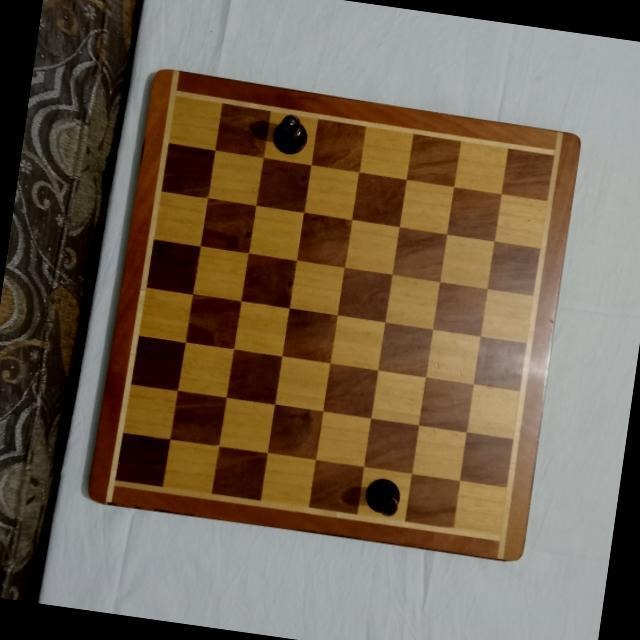black-bishop: (269, 110, 310, 157), (360, 475, 403, 518)
